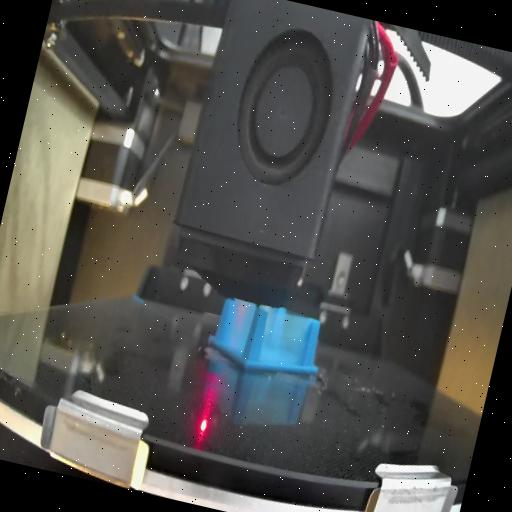stringing: (256, 311, 316, 372), (216, 299, 256, 361)
